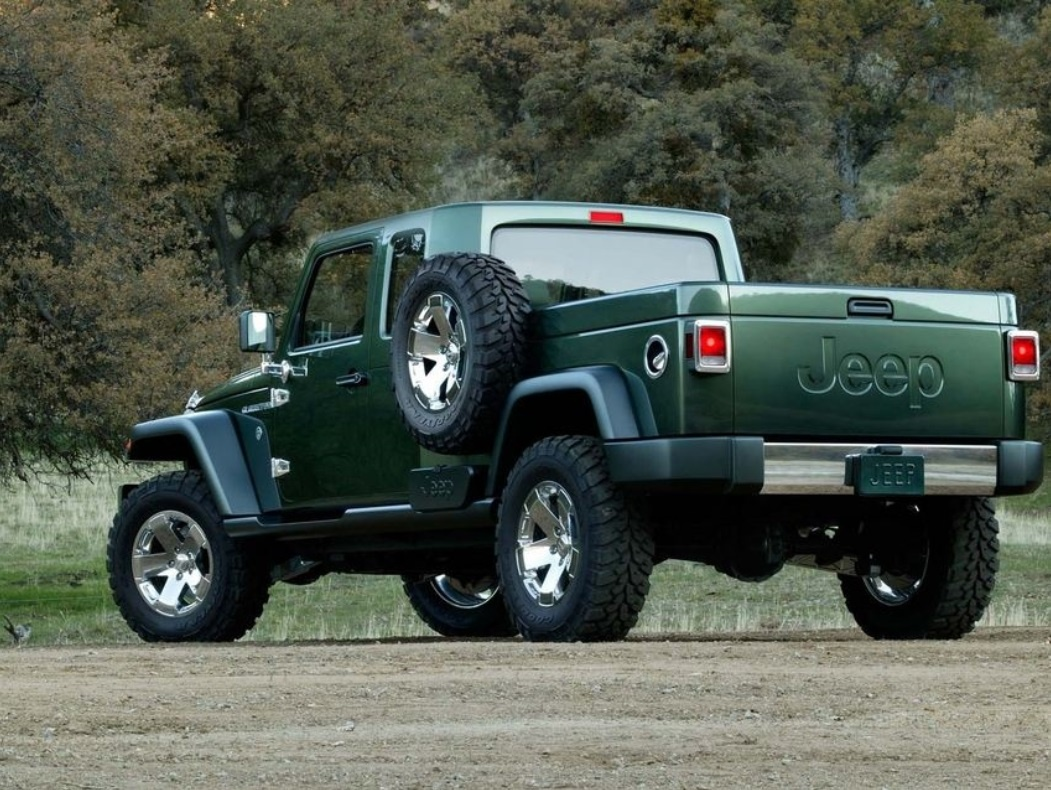jeep: (99, 157, 1032, 703)
